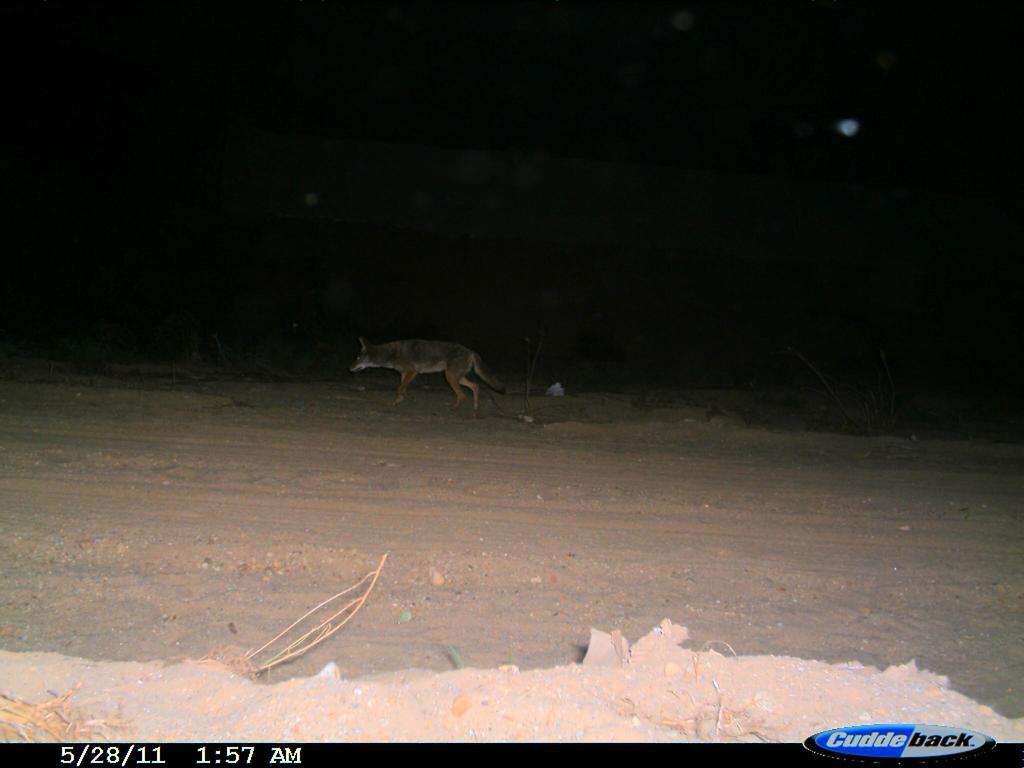coyote: (337, 326, 513, 423)
